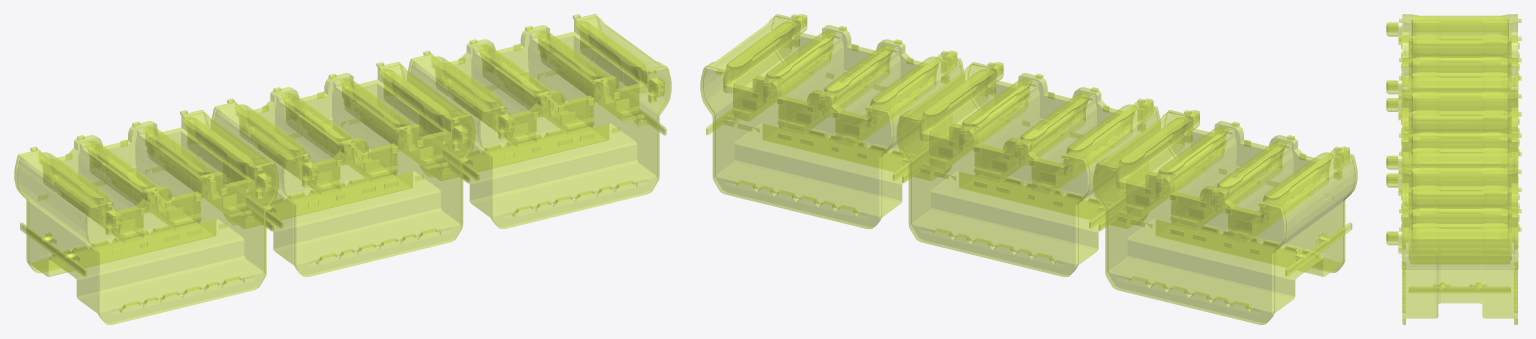
Rendered from park_monorail3s.glb.
The picture shows the model from 3 angles, left to right: view 1: azimuth 30°, elevation 25°; view 2: azimuth 150°, elevation 25°; view 3: azimuth 270°, elevation 25°; orthographic projection. The views are drawn at different scales.
Parts seen in each view (by area): view 1: tripo_mesh_b7170790-3261-419f-be79-68ed3eed1161002_1, tripo_mesh_b7170790-3261-419f-be79-68ed3eed1161002, tripo_mesh_b7170790-3261-419f-be79-68ed3eed1161002_2; view 2: tripo_mesh_b7170790-3261-419f-be79-68ed3eed1161002_1, tripo_mesh_b7170790-3261-419f-be79-68ed3eed1161002, tripo_mesh_b7170790-3261-419f-be79-68ed3eed1161002_2; view 3: tripo_mesh_b7170790-3261-419f-be79-68ed3eed1161002_2, tripo_mesh_b7170790-3261-419f-be79-68ed3eed1161002, tripo_mesh_b7170790-3261-419f-be79-68ed3eed1161002_1.
Boxes of the visible parts, x1,y1,x2,y2 form: tripo_mesh_b7170790-3261-419f-be79-68ed3eed1161002_1: [14, 110, 278, 324]; tripo_mesh_b7170790-3261-419f-be79-68ed3eed1161002: [211, 62, 475, 276]; tripo_mesh_b7170790-3261-419f-be79-68ed3eed1161002_2: [407, 14, 671, 228]; tripo_mesh_b7170790-3261-419f-be79-68ed3eed1161002_1: [1093, 110, 1357, 324]; tripo_mesh_b7170790-3261-419f-be79-68ed3eed1161002: [896, 62, 1160, 276]; tripo_mesh_b7170790-3261-419f-be79-68ed3eed1161002_2: [700, 14, 964, 228]; tripo_mesh_b7170790-3261-419f-be79-68ed3eed1161002_2: [1386, 165, 1521, 324]; tripo_mesh_b7170790-3261-419f-be79-68ed3eed1161002: [1386, 89, 1521, 249]; tripo_mesh_b7170790-3261-419f-be79-68ed3eed1161002_1: [1386, 14, 1521, 164].
Bounding box in the file's own units: 2.12 × 0.4288 × 0.5378.
